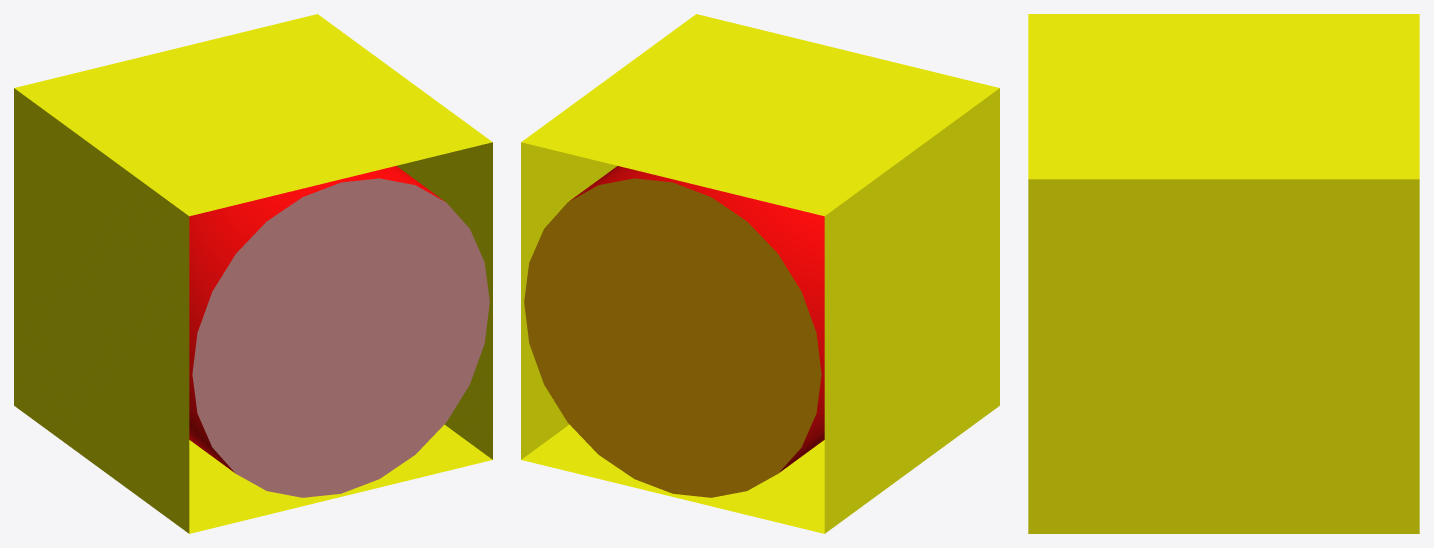
The model's file is Melablocks trunk.dae.
3 renders of one model, left to right at view 1: azimuth 30°, elevation 25°; view 2: azimuth 150°, elevation 25°; view 3: azimuth 270°, elevation 25°, orthographic. The views are drawn at different scales.
Parts seen in each view (by area): view 1: box; view 2: box; view 3: box.
Part boxes in pixels (left/top/right/bottom): box: left=14, top=14, right=492, bottom=533; box: left=521, top=14, right=999, bottom=533; box: left=1028, top=14, right=1419, bottom=533.
Size of the model in its own units: 1 by 1 by 1.
